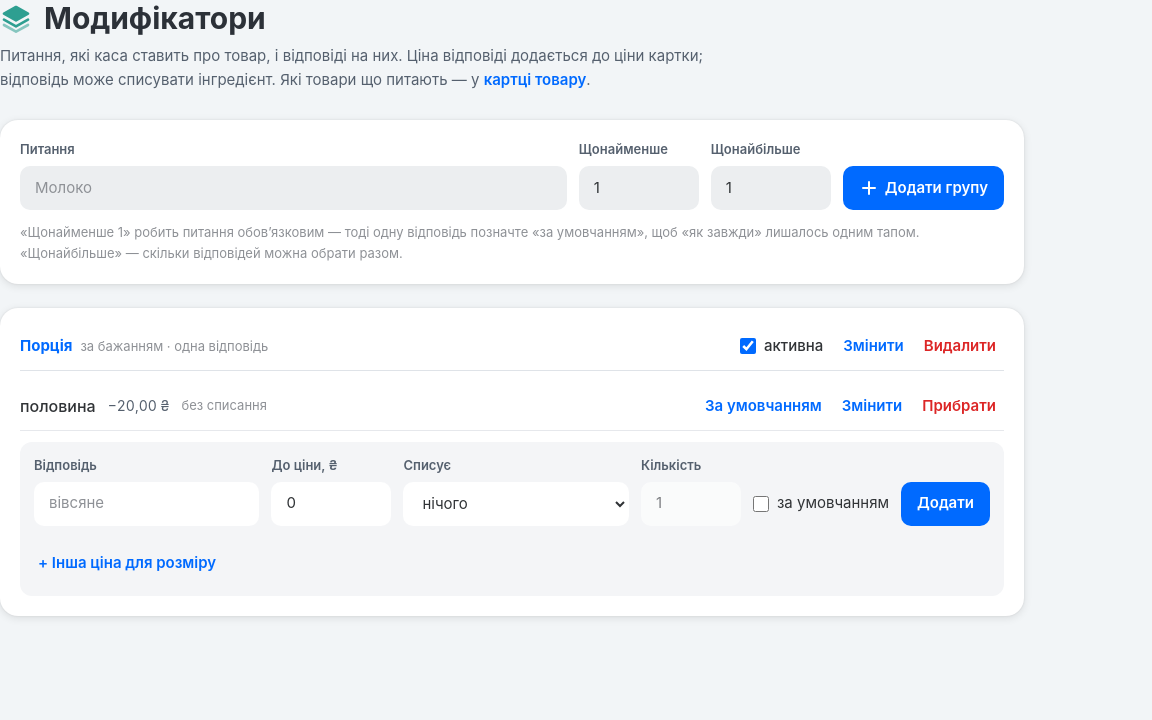
Test: ModifiersPage › offers the first size in use that has no price yet
Click the button with test id "modifier-form-add-size".
click(127, 564)  # box [34,546,220,582]
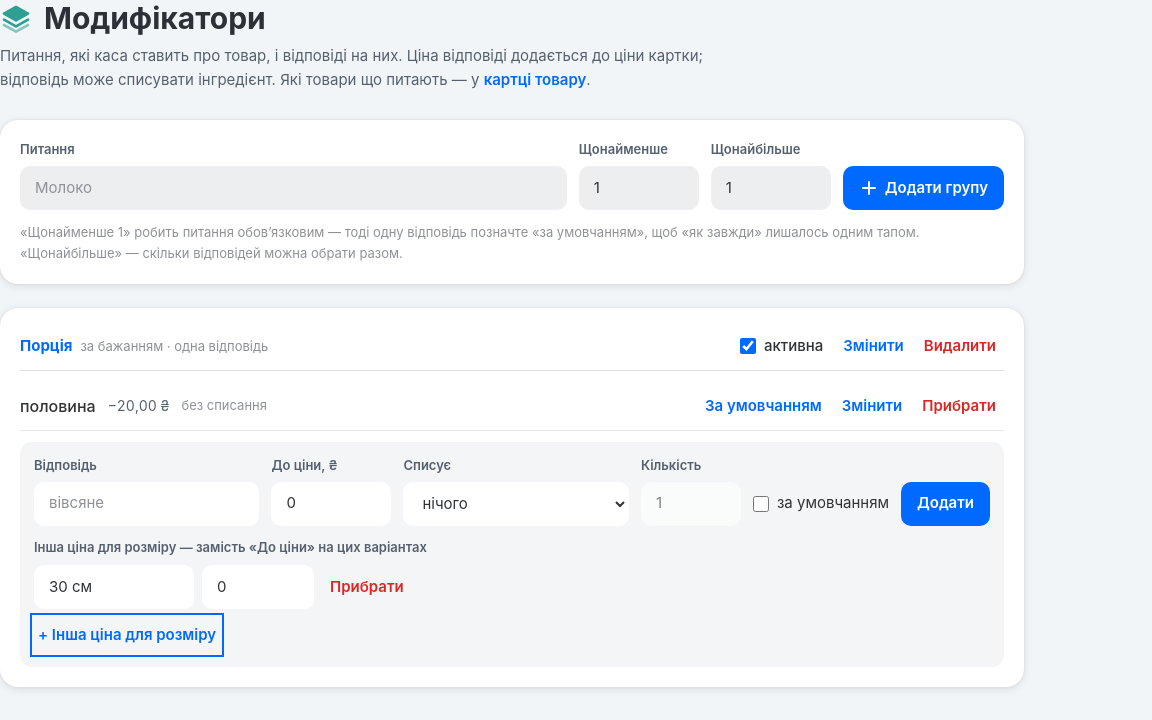
Click the button with test id "modifier-form-add-size".
click(127, 635)  # box [34,617,220,653]
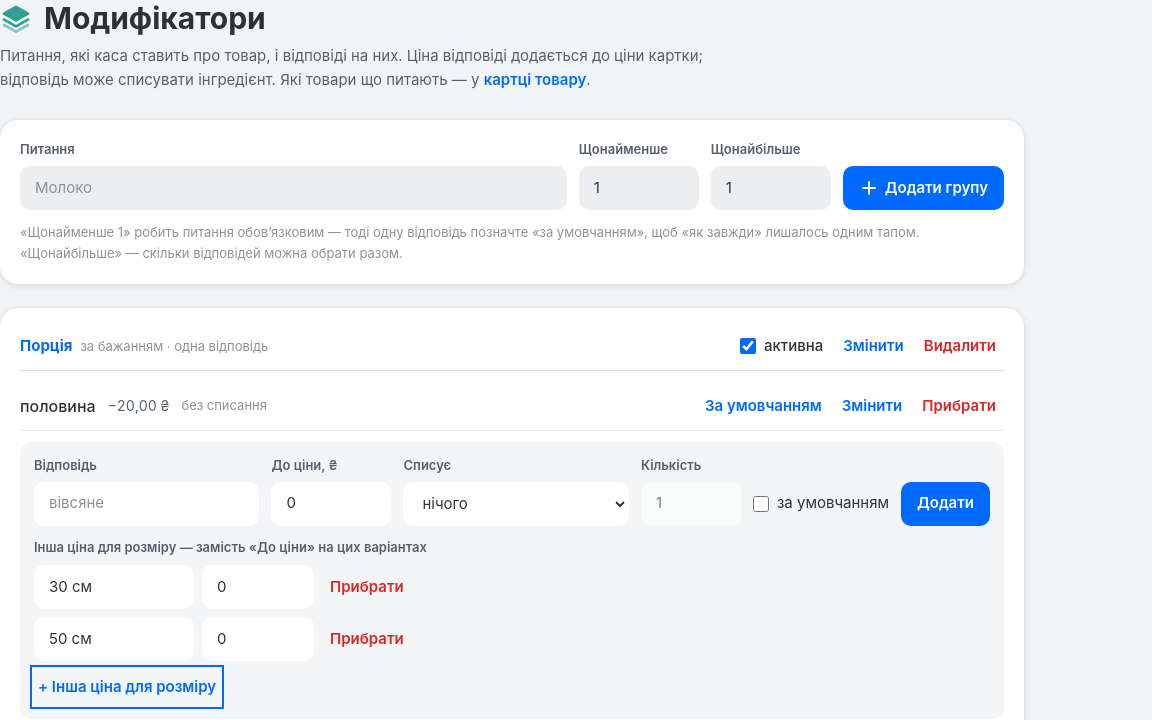
Result: the field with test id "modifier-size-label-0" holds "30 см" at [34,565,194,609]
Result: the field with test id "modifier-size-label-1" holds "50 см" at [34,617,194,661]
